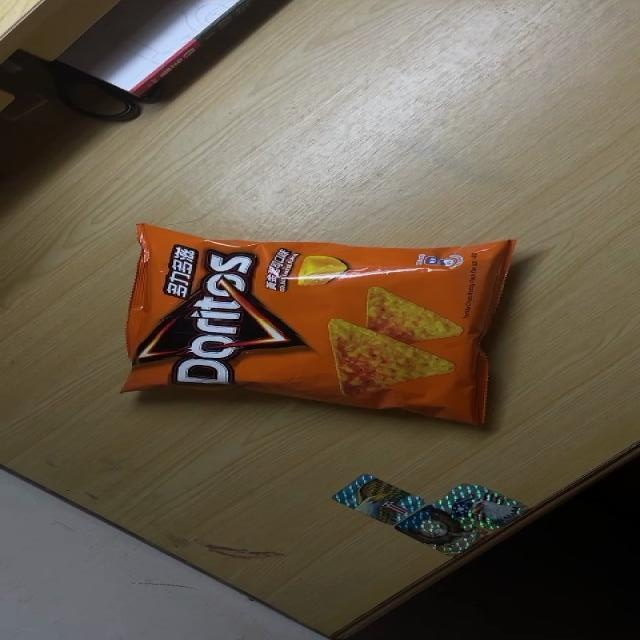Doritos: (119, 224, 518, 431)
